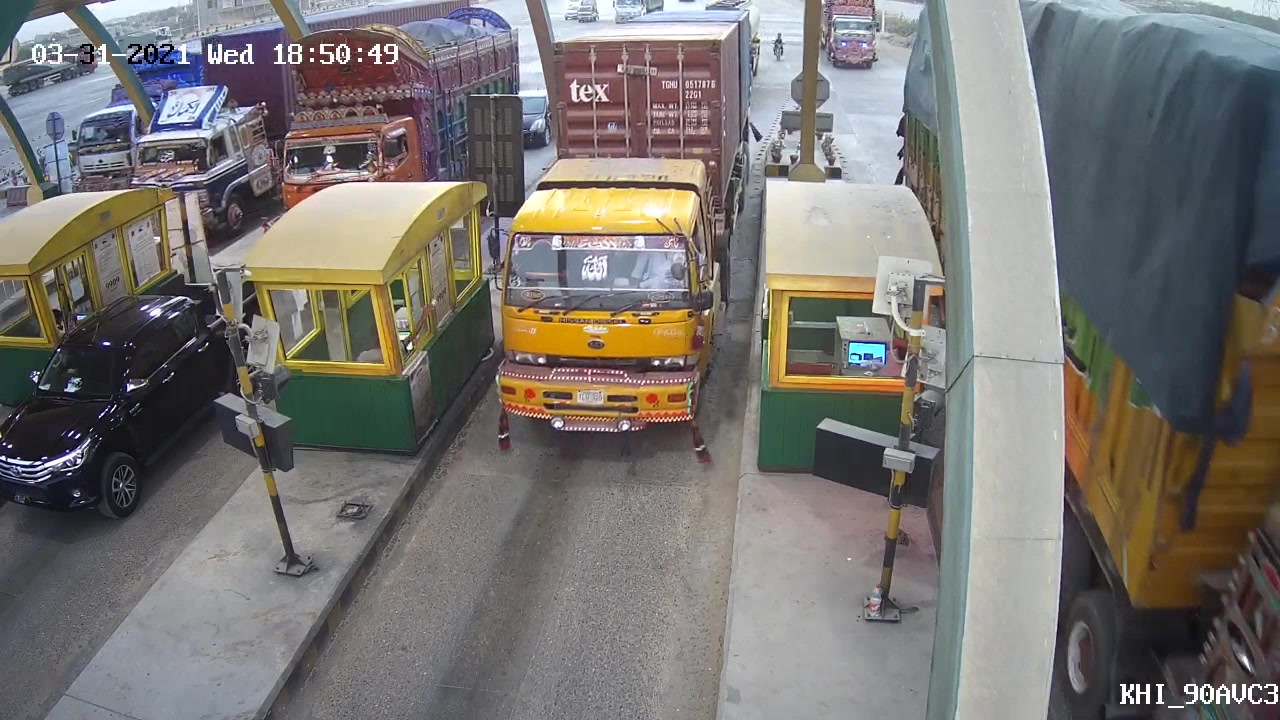F6: (484, 6, 759, 462)
